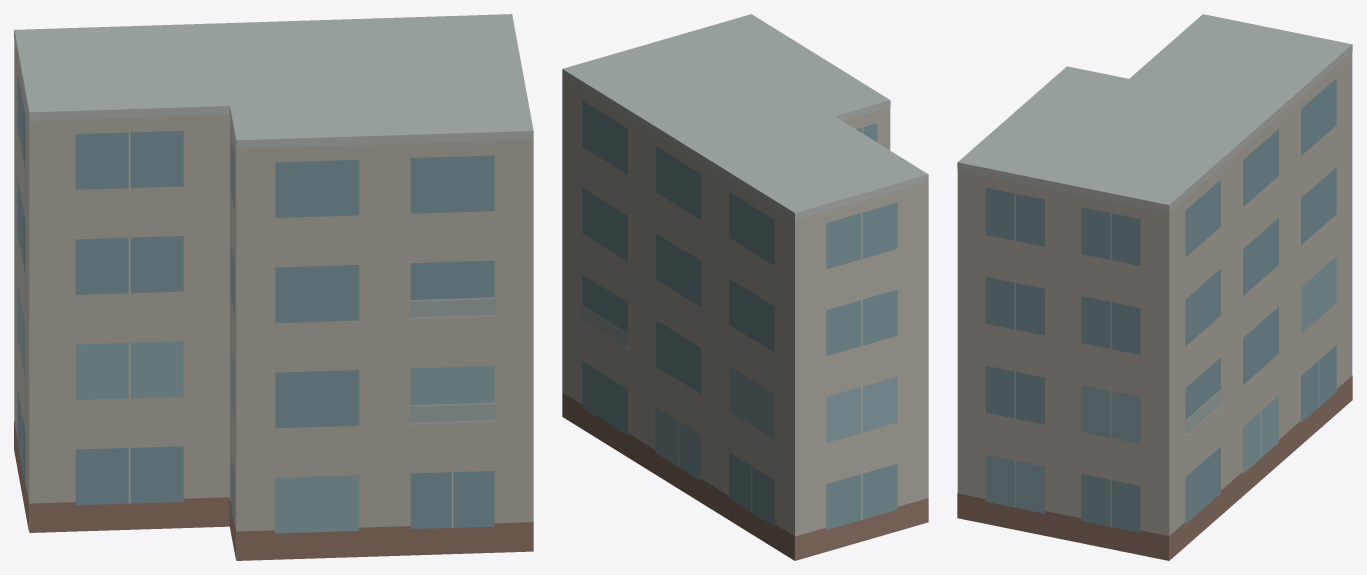
The model's file is survey-upis-32799402.glb.
3 renders of one model, left to right at view 1: azimuth 30°, elevation 25°; view 2: azimuth 150°, elevation 25°; view 3: azimuth 270°, elevation 25°, orthographic. The views are drawn at different scales.
Parts seen in each view (by area): view 1: survey-upis-32799402.tmp; view 2: survey-upis-32799402.tmp; view 3: survey-upis-32799402.tmp.
Boxes of the visible parts, x1,y1,x2,y2 form: survey-upis-32799402.tmp: (14, 14, 533, 560); survey-upis-32799402.tmp: (562, 14, 928, 560); survey-upis-32799402.tmp: (957, 14, 1352, 560).
Size of the model in its own units: 14 by 12.15 by 12.23.
